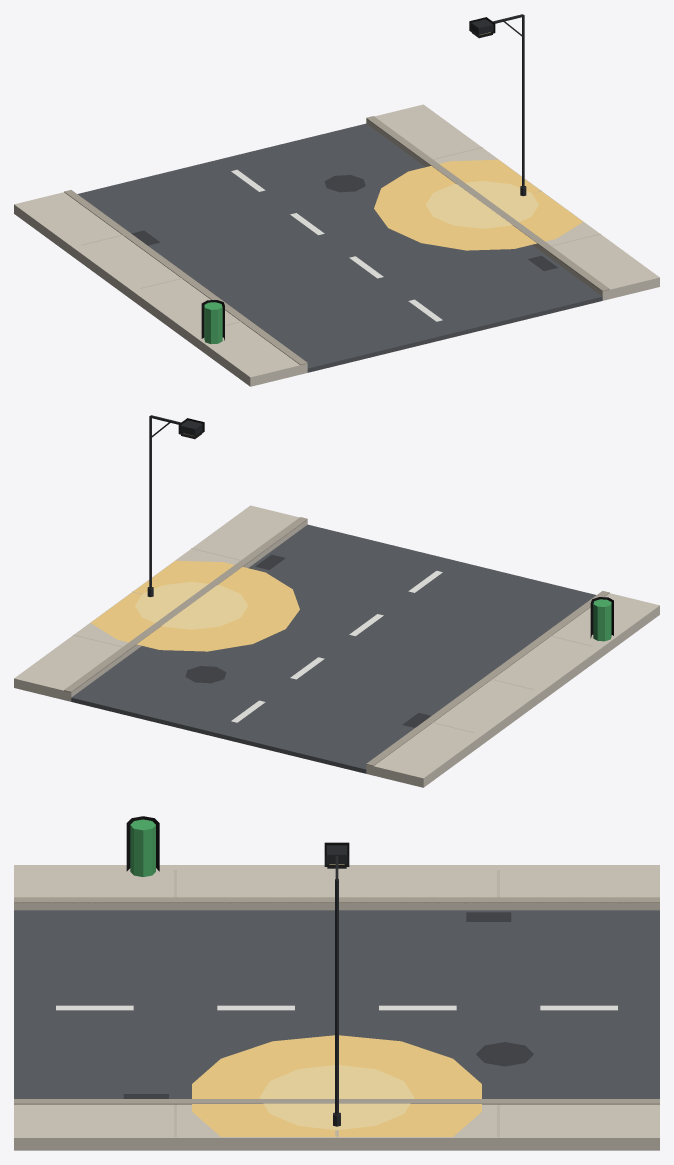
File: Yol_lane_01.fbx
3 views of the same model, one above another, from view 1: azimuth 30°, elevation 25°; view 2: azimuth 150°, elevation 25°; view 3: azimuth 270°, elevation 25° (orthographic). The views are drawn at different scales.
Parts seen in each view (by area): view 1: Yol_lane_01; view 2: Yol_lane_01; view 3: Yol_lane_01.
Boxes of the visible parts, x1,y1,x2,y2 form: Yol_lane_01: [14, 14, 659, 386]; Yol_lane_01: [14, 415, 659, 787]; Yol_lane_01: [14, 816, 659, 1150].
Size of the model in its own units: 10.01 by 4.49 by 10.
